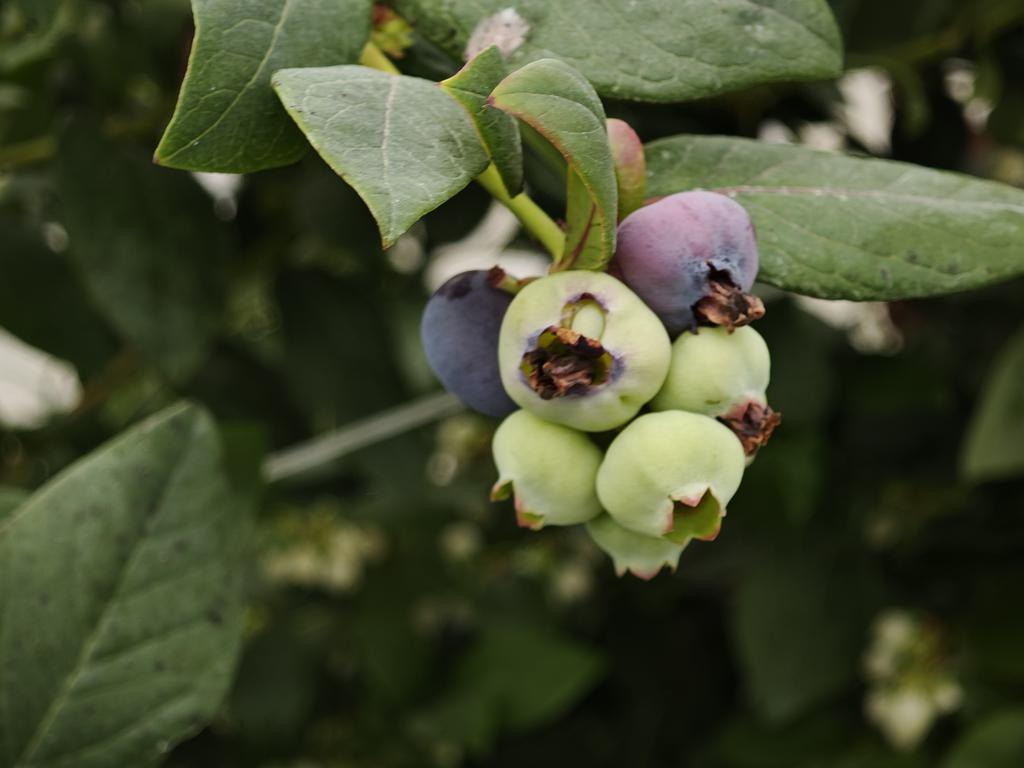RipeBlueBerry: (418, 263, 525, 415)
Semi-RipeBlueBerry: (615, 185, 765, 327)
UnripeBlueBerry: (496, 265, 675, 432), (591, 407, 748, 543)
